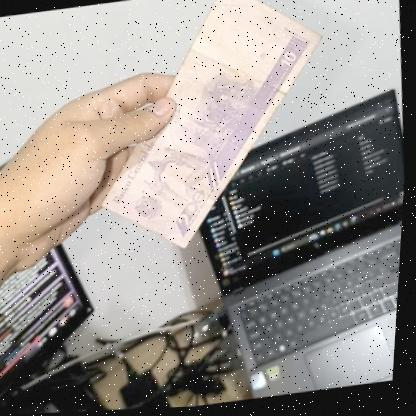ten-back-vef: (81, 0, 342, 263)
